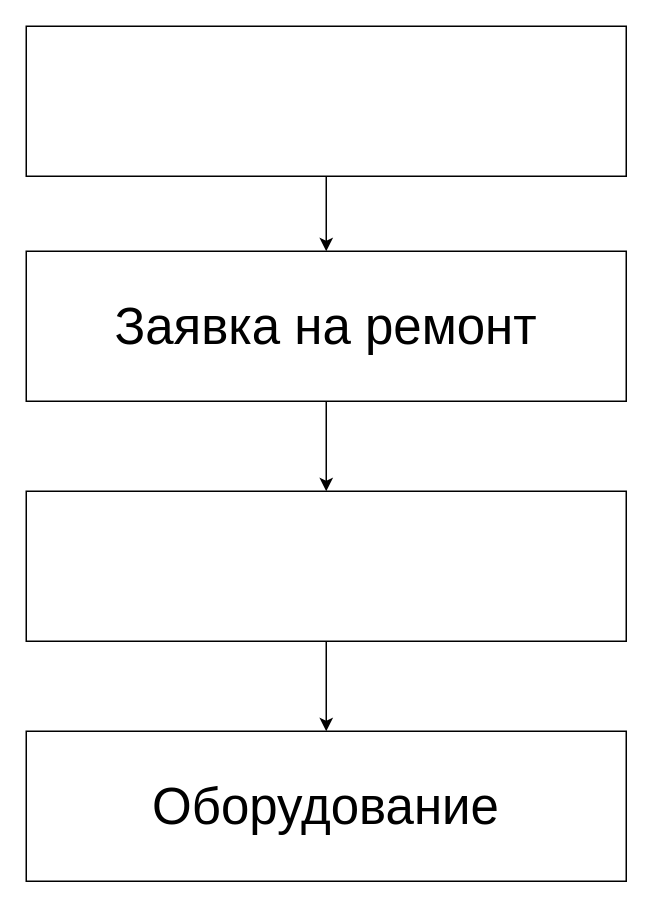
Image size: 653x908. Some labels were removed from this diagram. Each missing label, with the centre of its shape:
Пользователь: [325,100]
Сотрудник техслужбы: [325,565]
